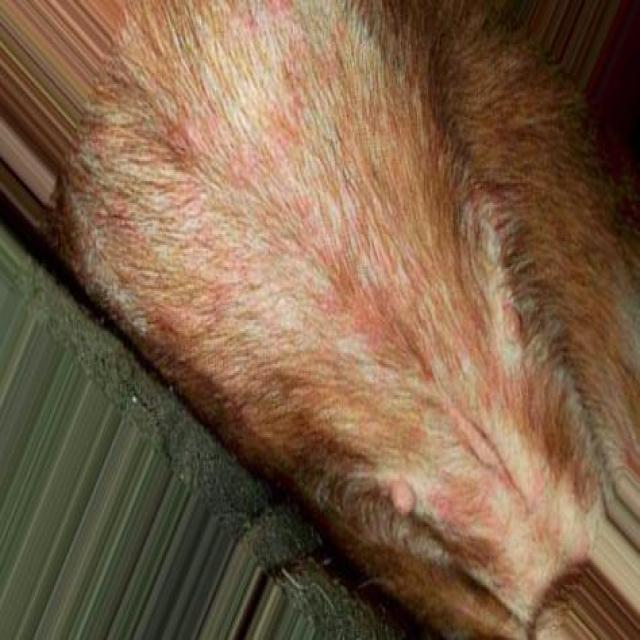di ung bo chet: (48, 79, 520, 378)
